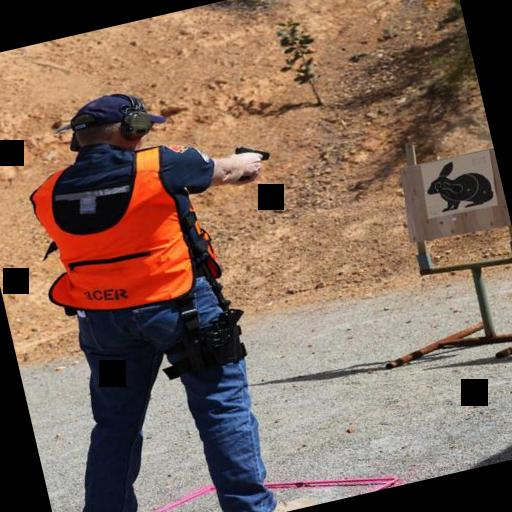Handgun: (218, 130, 280, 174)
